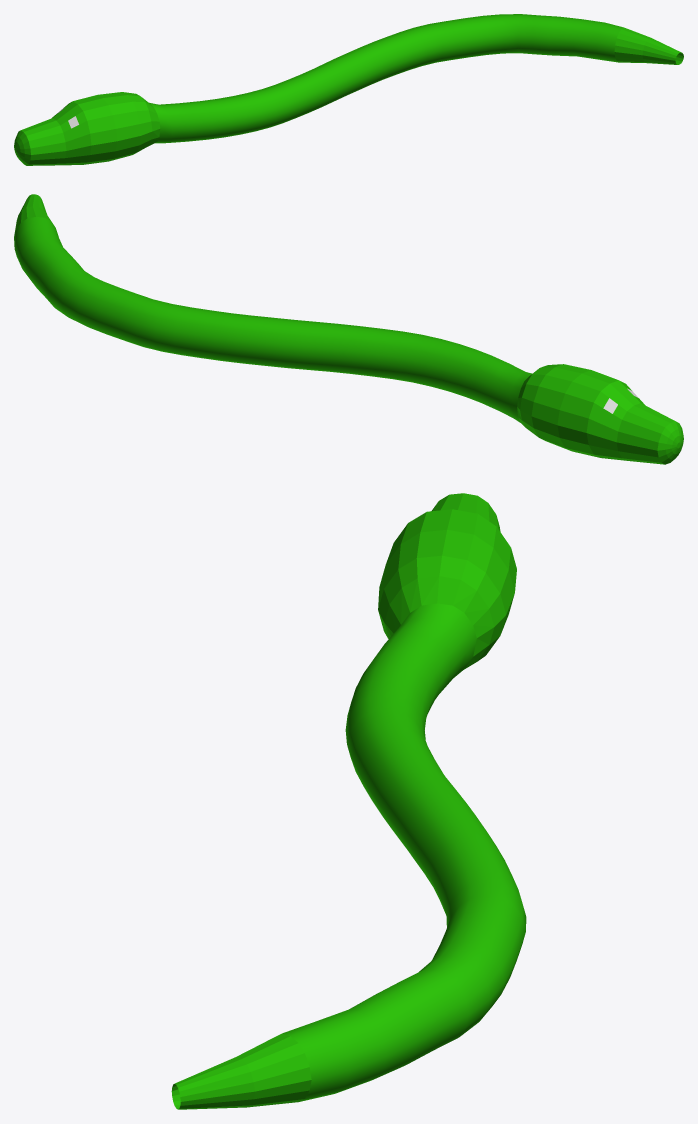
The model's file is Serpient.FBX.
The picture shows the model from 3 angles, top to bottom: view 1: azimuth 30°, elevation 25°; view 2: azimuth 150°, elevation 25°; view 3: azimuth 270°, elevation 25°; orthographic projection. The views are drawn at different scales.
Visible parts, largest first — view 1: Cylinder001; view 2: Cylinder001; view 3: Cylinder001.
Part boxes in pixels (x1=…): Cylinder001: x1=14, y1=14, x2=683, y2=165; Cylinder001: x1=14, y1=194, x2=683, y2=464; Cylinder001: x1=171, y1=493, x2=526, y2=1109.
Bounding box in the file's own units: 6092 × 586 × 1566.
